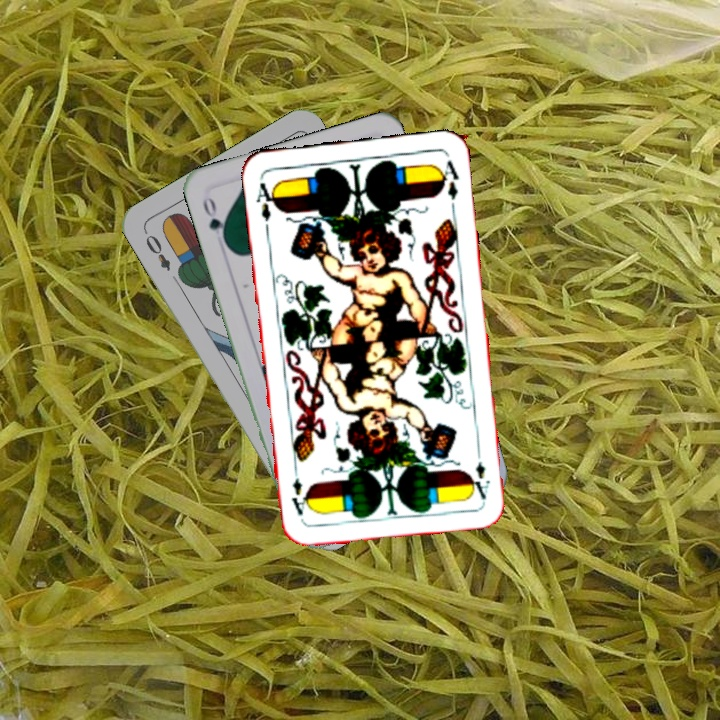EA: (467, 443, 492, 502), (252, 178, 280, 224)
EO: (141, 230, 173, 274)
GO: (198, 193, 230, 247)
